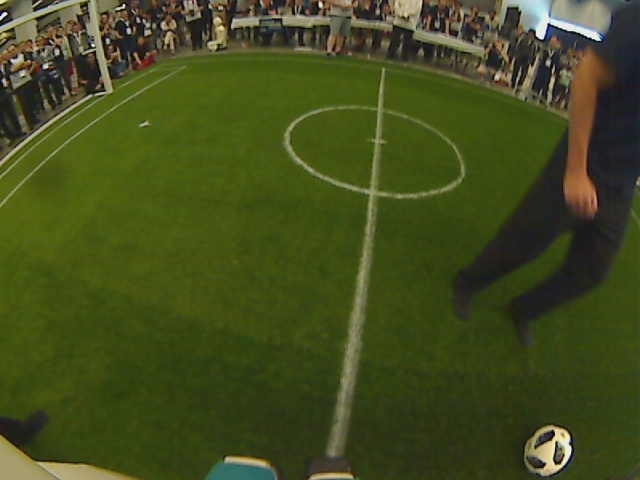ball: (523, 424, 576, 477)
